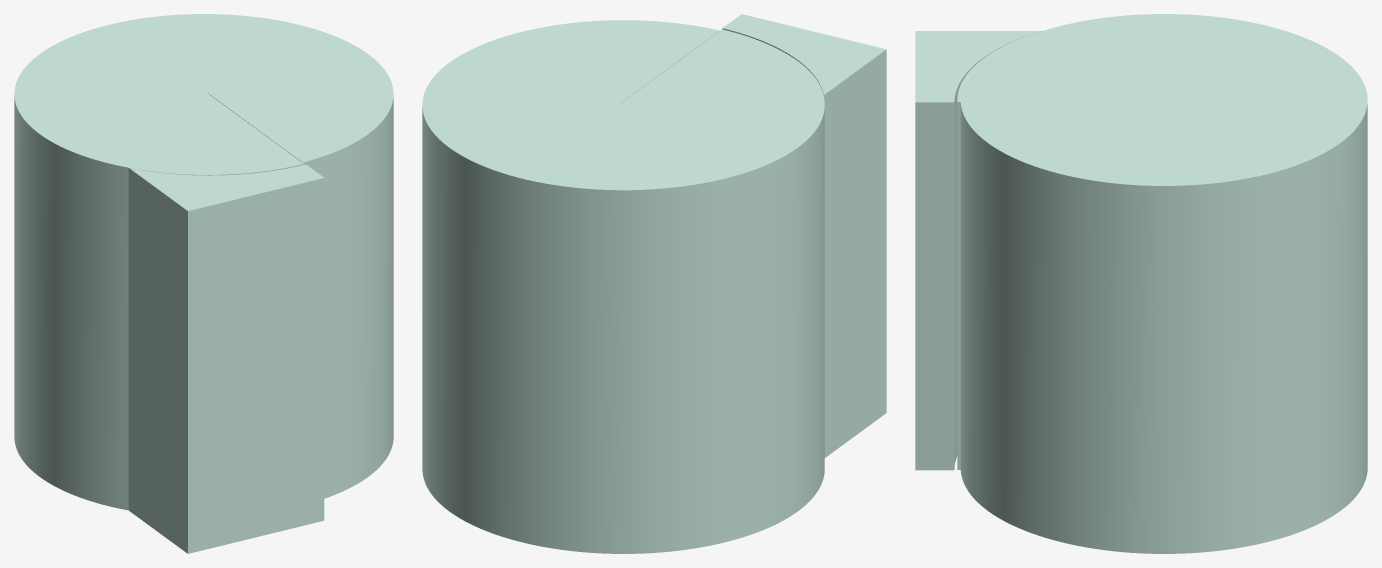
3 views of the same model, side by side, from view 1: azimuth 30°, elevation 25°; view 2: azimuth 150°, elevation 25°; view 3: azimuth 270°, elevation 25° (orthographic). The views are drawn at different scales.
Visible parts, largest first — view 1: Renderer Node; view 2: Renderer Node; view 3: Renderer Node.
Boxes of the visible parts, x1,y1,x2,y2 form: Renderer Node: (14, 14, 393, 553); Renderer Node: (422, 14, 886, 553); Renderer Node: (915, 14, 1367, 553).
Size of the model in its own units: 0.752 by 0.75 by 0.8356.
